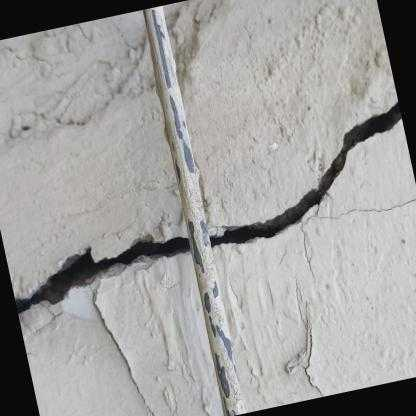crack: (209, 92, 404, 254), (14, 230, 191, 319), (91, 287, 159, 416), (325, 193, 416, 223)
